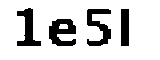1: (15, 8, 44, 49)
5: (84, 5, 115, 51)
I: (118, 6, 135, 50)
e: (48, 17, 78, 49)
